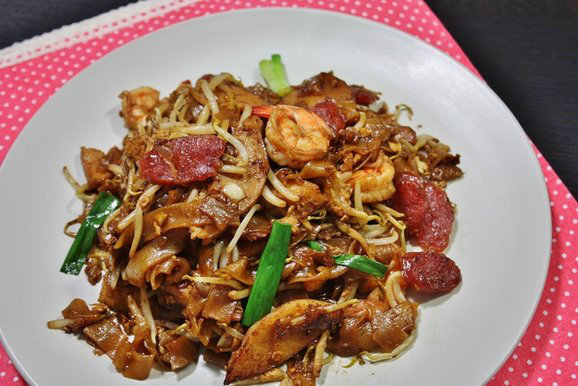Char Kway Teow: (60, 65, 459, 362)
